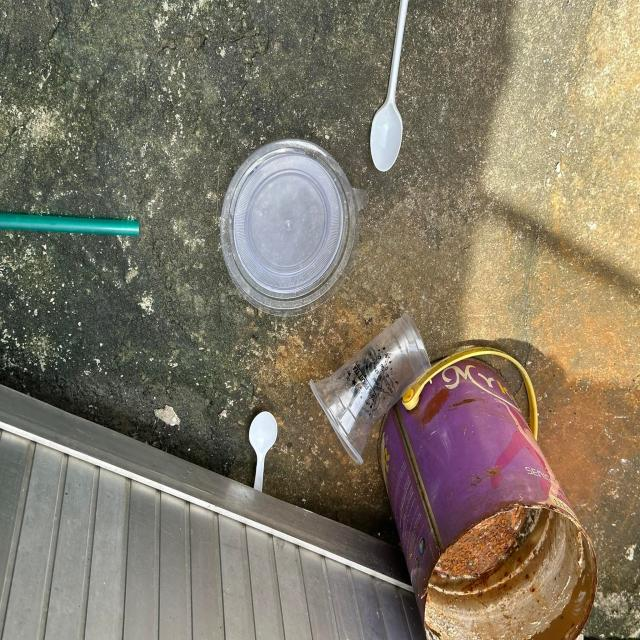drinking straw: (0, 211, 141, 238)
lid: (220, 138, 358, 316)
plastic glass: (309, 312, 431, 465)
plastic utensil: (370, 0, 410, 171), (249, 410, 279, 492)
